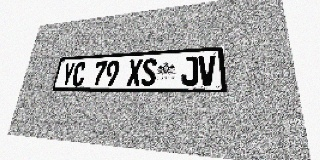7: (92, 61, 107, 86)
9: (104, 60, 120, 86)
C: (71, 62, 87, 86)
J: (181, 56, 198, 86)
S: (141, 58, 157, 86)
V: (198, 55, 216, 86)
X: (126, 59, 143, 86)
Y: (60, 63, 76, 86)
